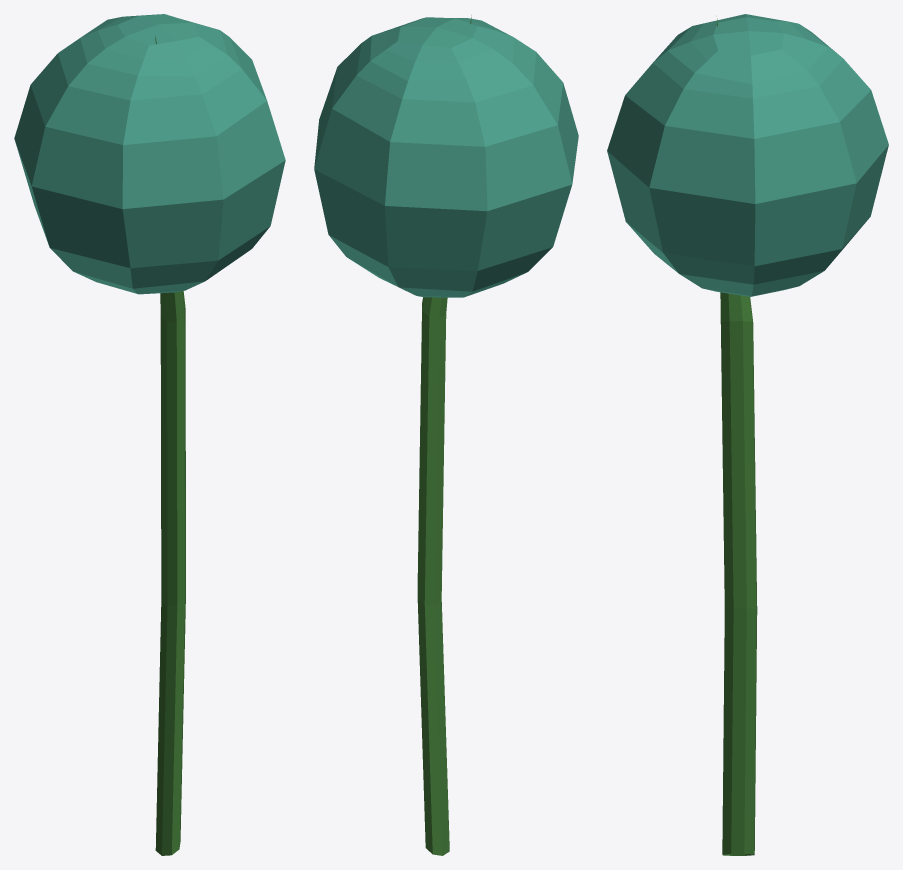
Rendered from Kitchen_2_CraspediaFlower.fbx.
3 renders of one model, left to right at view 1: azimuth 30°, elevation 25°; view 2: azimuth 150°, elevation 25°; view 3: azimuth 270°, elevation 25°, orthographic.
Visible parts, largest first — view 1: Kitchen_2_CraspediaFlower; view 2: Kitchen_2_CraspediaFlower; view 3: Kitchen_2_CraspediaFlower.
Boxes of the visible parts, x1=… form: Kitchen_2_CraspediaFlower: x1=14, y1=14, x2=285, y2=855; Kitchen_2_CraspediaFlower: x1=314, y1=15, x2=578, y2=855; Kitchen_2_CraspediaFlower: x1=607, y1=14, x2=888, y2=855.
Bounding box in the file's own units: 17.23 × 55.88 × 17.13.
